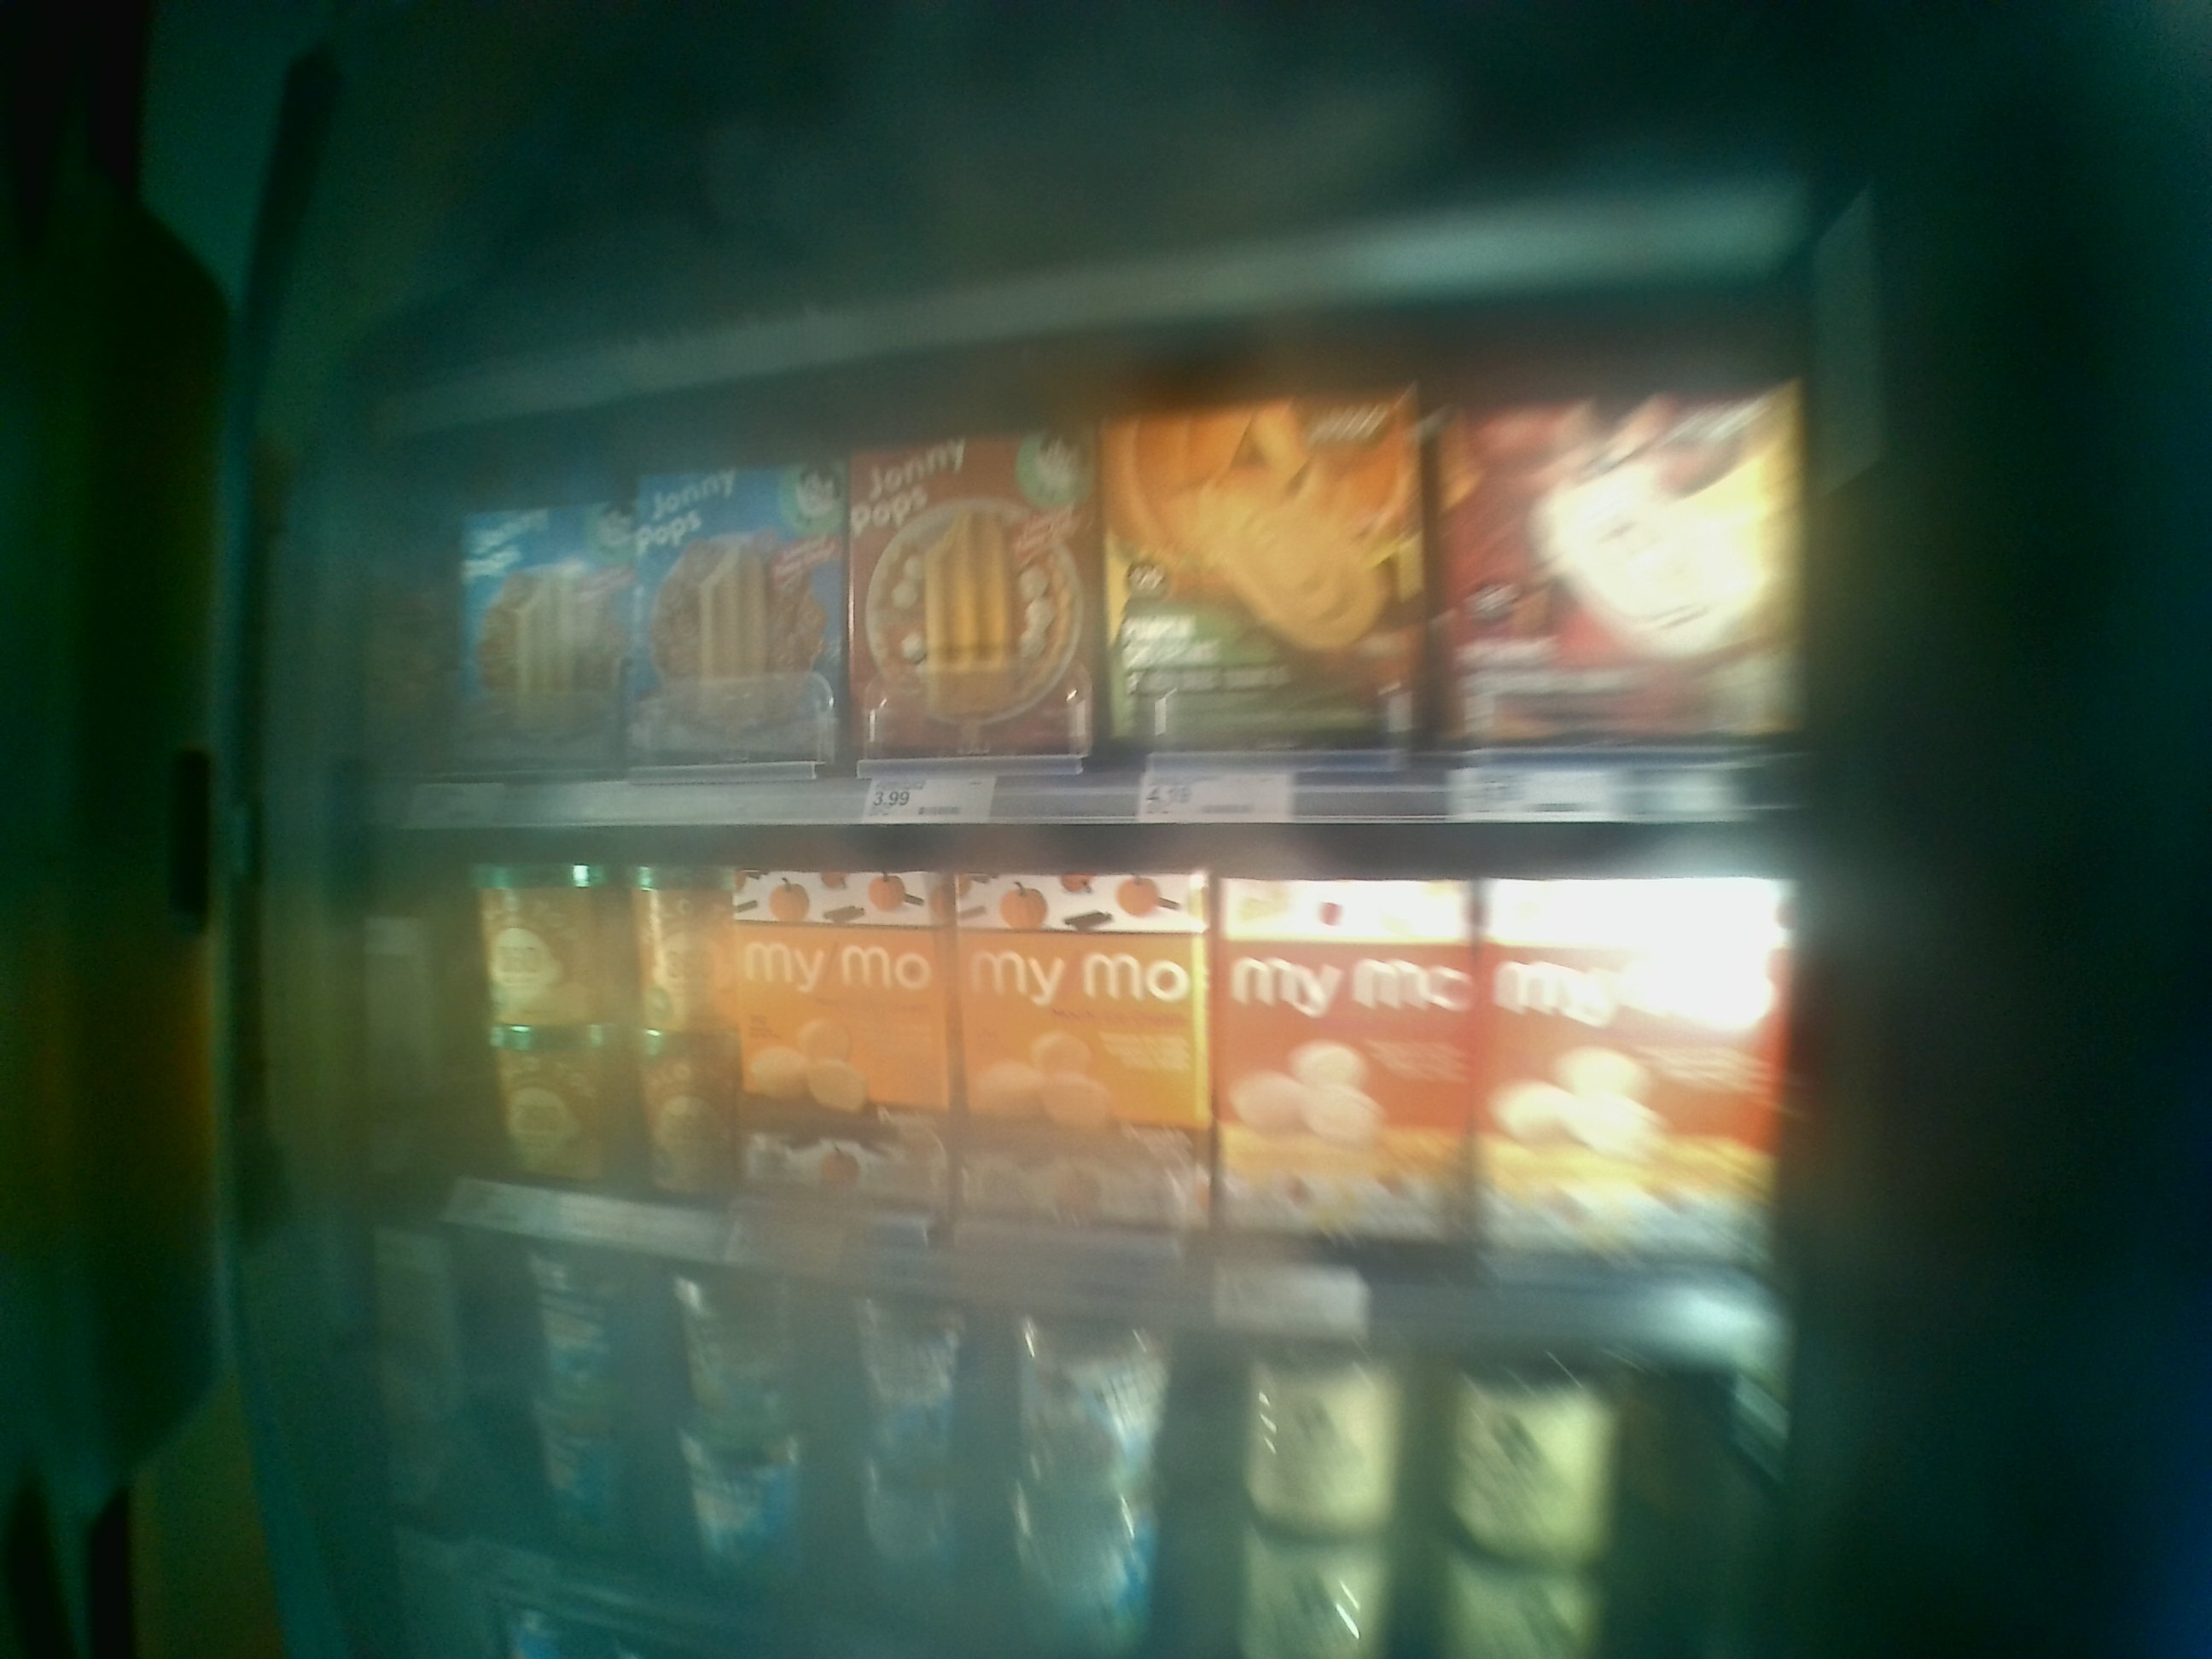shelf: (350, 779, 1825, 1361), (359, 373, 1820, 807)
